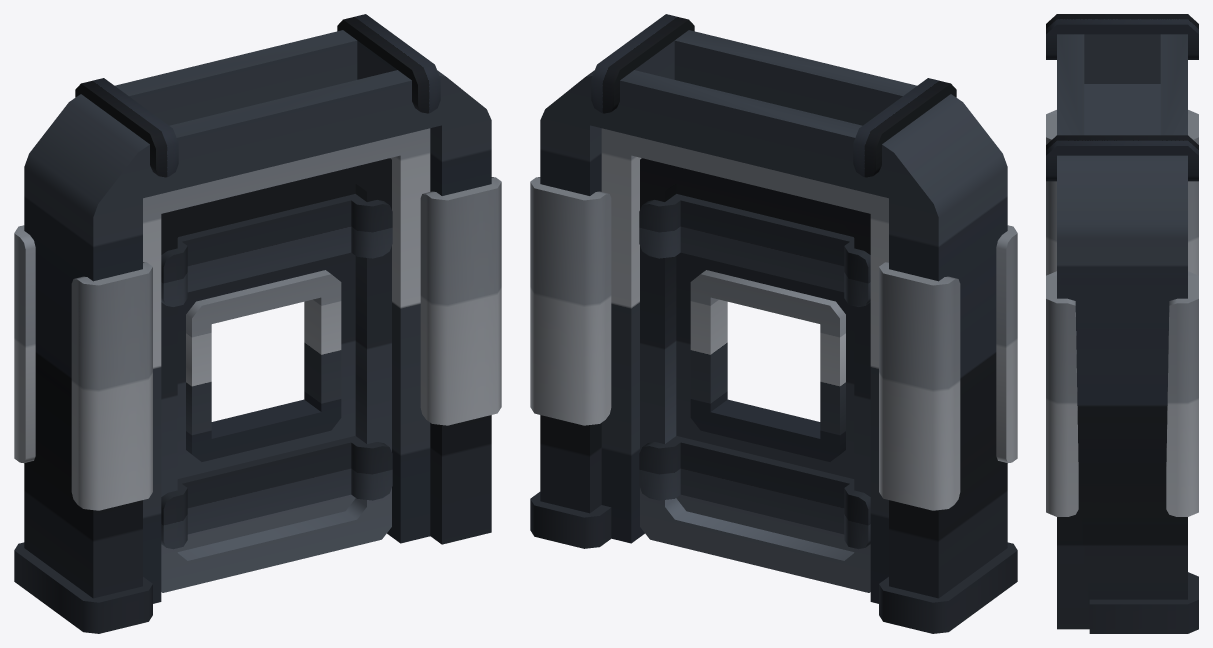
File: screen_wide.glb
3 renders of one model, left to right at view 1: azimuth 30°, elevation 25°; view 2: azimuth 150°, elevation 25°; view 3: azimuth 270°, elevation 25°, orthographic. The views are drawn at different scales.
Parts seen in each view (by area): view 1: gate-door-window, door; view 2: gate-door-window, door; view 3: gate-door-window.
Boxes of the visible parts, box(x1,y1,x2,y2) form: gate-door-window: box(14, 14, 501, 633); door: box(161, 158, 392, 592); gate-door-window: box(530, 14, 1017, 633); door: box(639, 158, 870, 592); gate-door-window: box(1046, 14, 1198, 633).
Bounding box in the file's own units: 4.2 × 4.62 × 1.4.
Materials: 1 (1 with a texture image).
